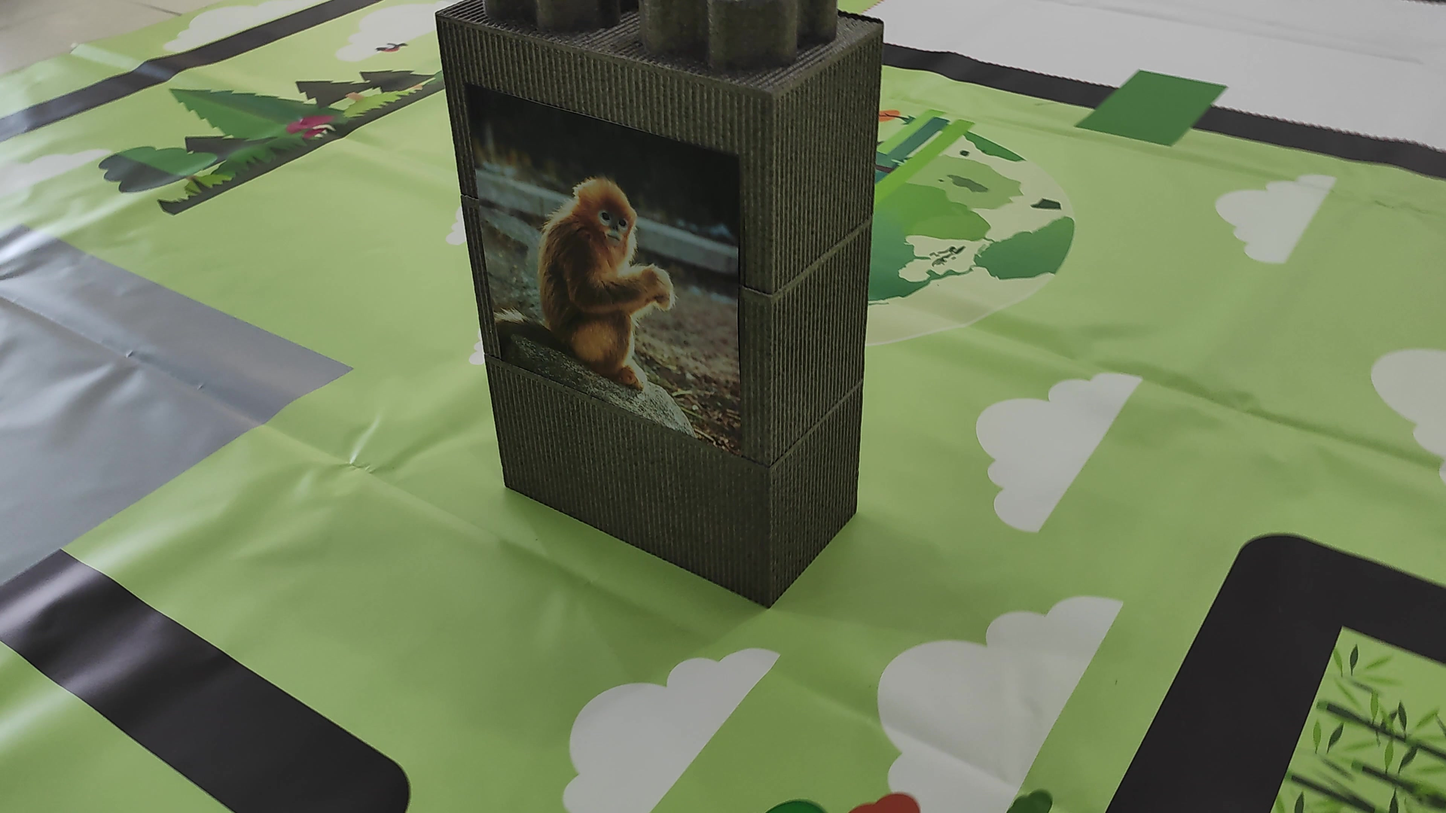monkey: (497, 144, 696, 376)
